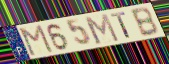5: (64, 17, 95, 48)
6: (46, 23, 70, 51)
B: (129, 6, 160, 38)
M: (82, 12, 121, 45), (19, 23, 55, 57)
T: (109, 10, 133, 40)
